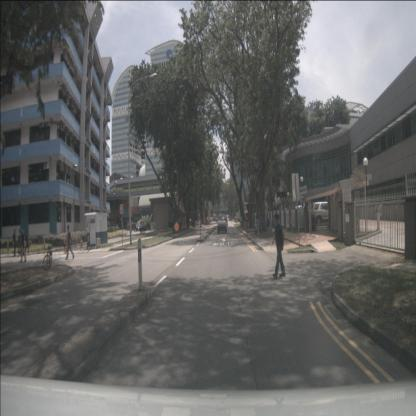cone: (80, 239, 83, 249), (75, 240, 77, 249)
